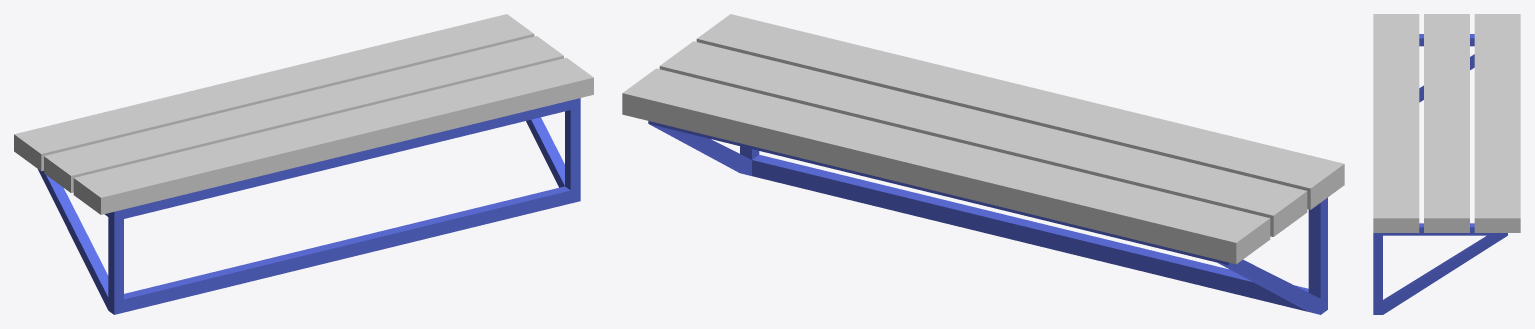
The model's file is model_chair_wall_01.fbx.
3 renders of one model, left to right at view 1: azimuth 30°, elevation 25°; view 2: azimuth 150°, elevation 25°; view 3: azimuth 270°, elevation 25°, orthographic. The views are drawn at different scales.
Parts seen in each view (by area): view 1: Cube.014; view 2: Cube.014; view 3: Cube.014.
Part boxes in pixels (bbox=[...]): Cube.014: bbox=[14, 14, 593, 314]; Cube.014: bbox=[622, 14, 1344, 314]; Cube.014: bbox=[1373, 14, 1520, 314].
Bounding box in the file's own units: 300 × 70 × 91.54.
